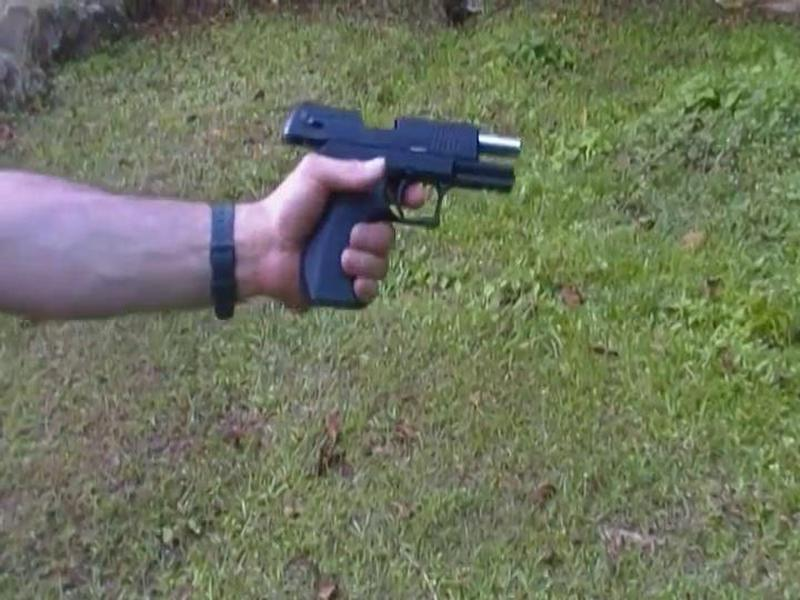Pistola: (243, 95, 549, 318)
